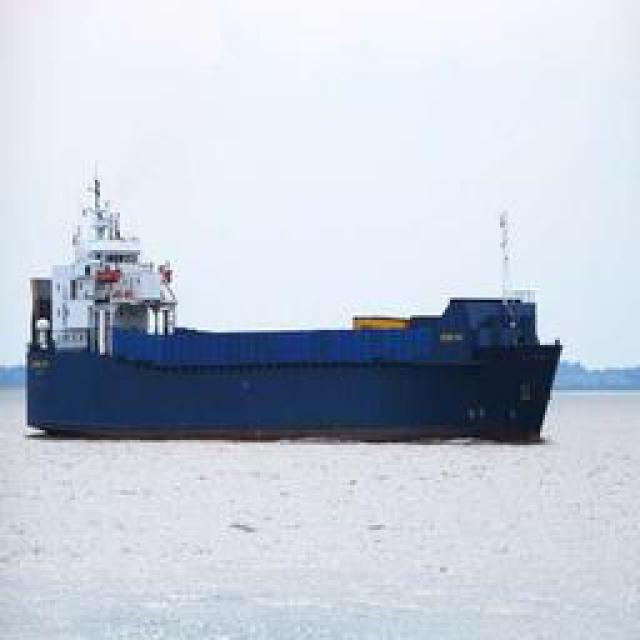Ship: (19, 163, 564, 441)
